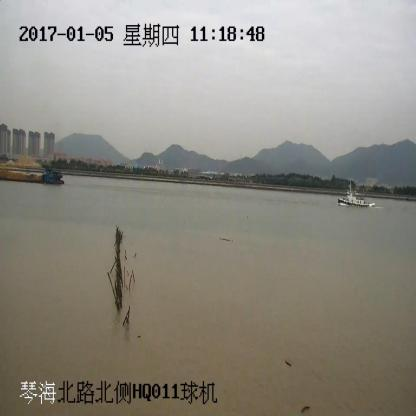Fishing Boat: (338, 184, 373, 206)
